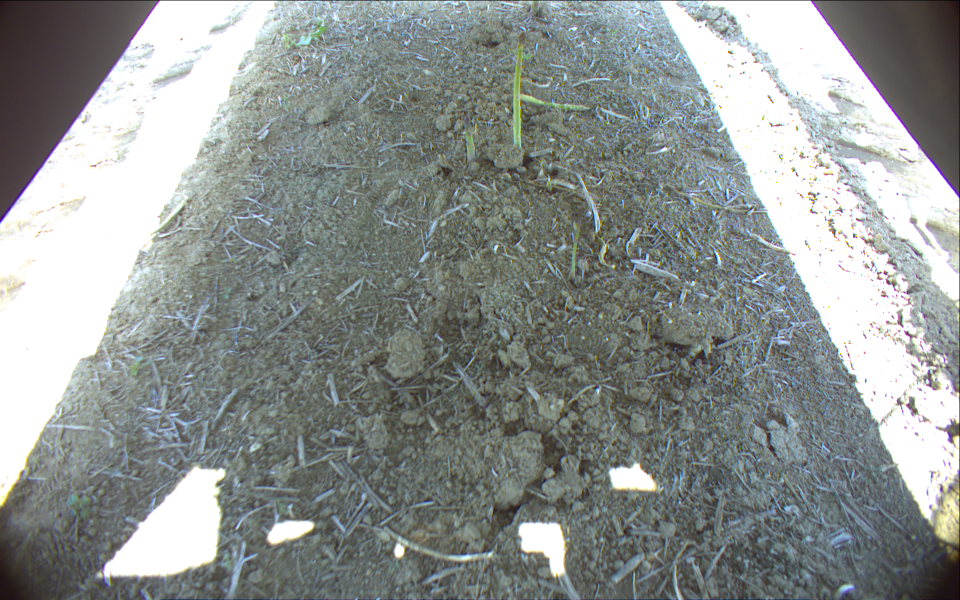aspa: (670, 184, 760, 217), (511, 30, 526, 148), (521, 93, 592, 112), (569, 213, 582, 284), (463, 110, 474, 161)
